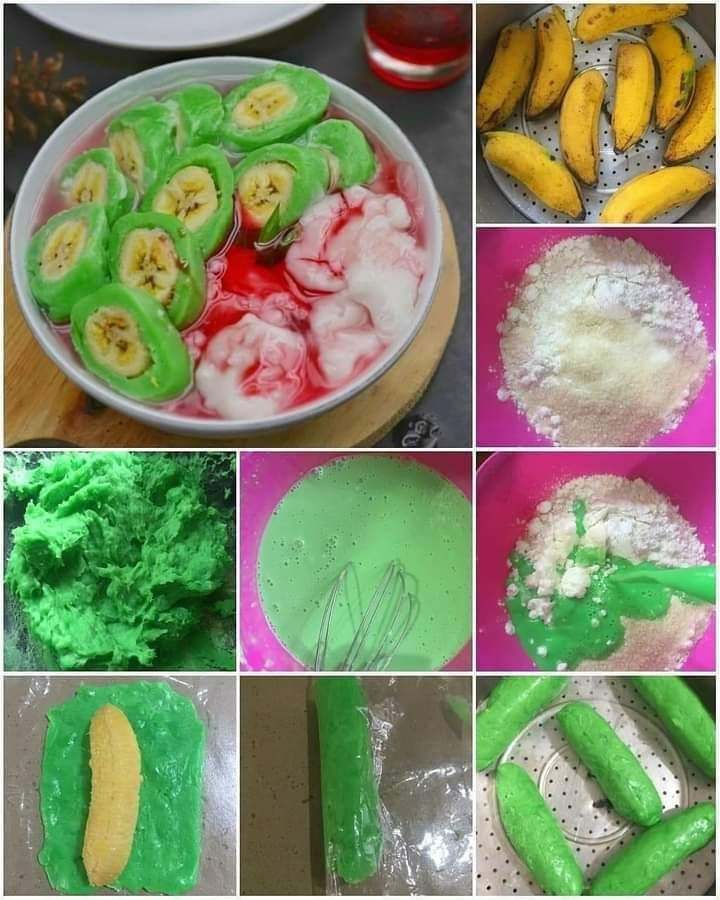pisang_ijo: (68, 289, 191, 407), (113, 208, 208, 324)
